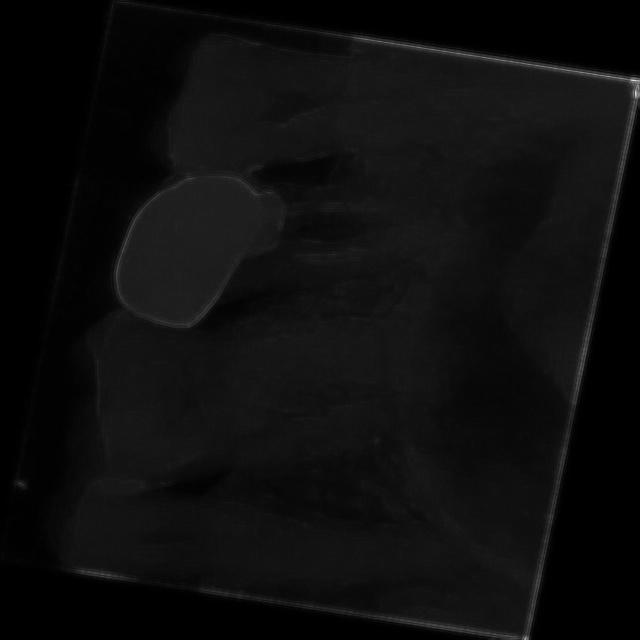Class 1- complete endodontic treatment: (91, 116, 477, 394)
